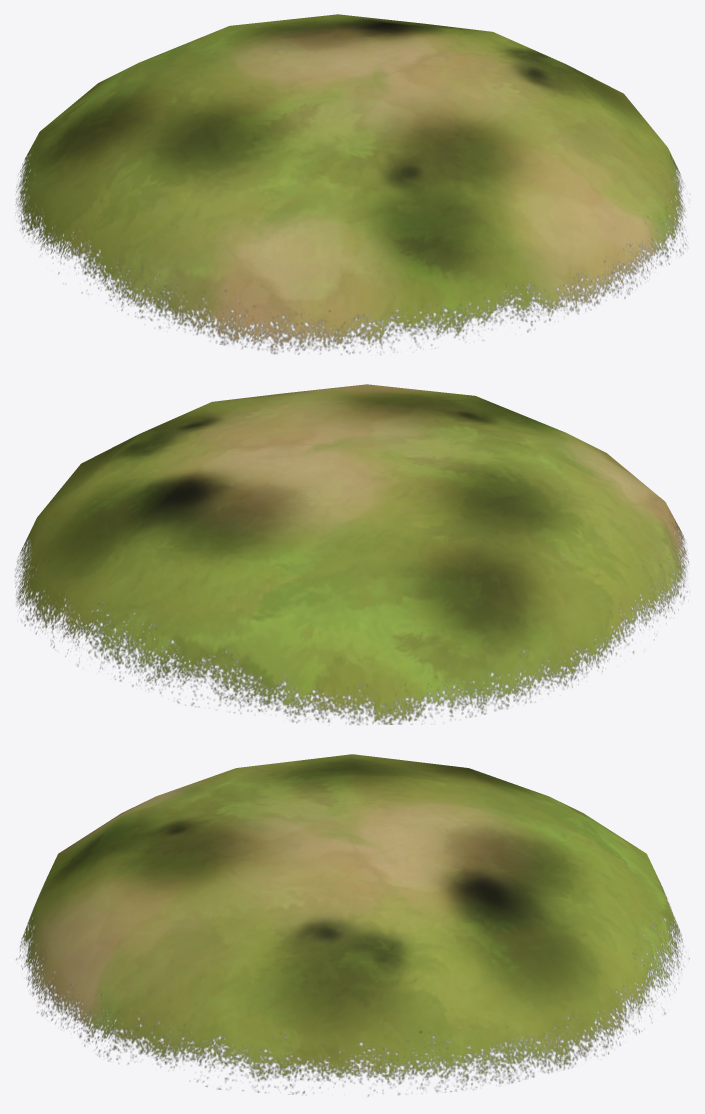
File: prueba.glb
3 renders of one model, top to bottom at view 1: azimuth 30°, elevation 25°; view 2: azimuth 150°, elevation 25°; view 3: azimuth 270°, elevation 25°, orthographic.
Parts seen in each view (by area): view 1: TerrainShape_14_0; view 2: TerrainShape_14_0; view 3: TerrainShape_14_0.
Part boxes in pixels (bbox=[...]): TerrainShape_14_0: bbox=[16, 14, 686, 354]; TerrainShape_14_0: bbox=[15, 384, 688, 724]; TerrainShape_14_0: bbox=[16, 754, 689, 1095].
Size of the model in its own units: 0.3878 by 0.1 by 0.3878.
Materials: 1 (1 with a texture image).
